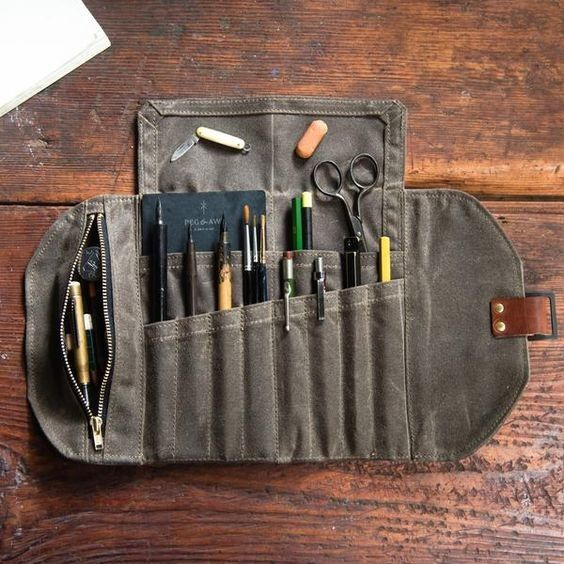cuero: (489, 295, 552, 338)
